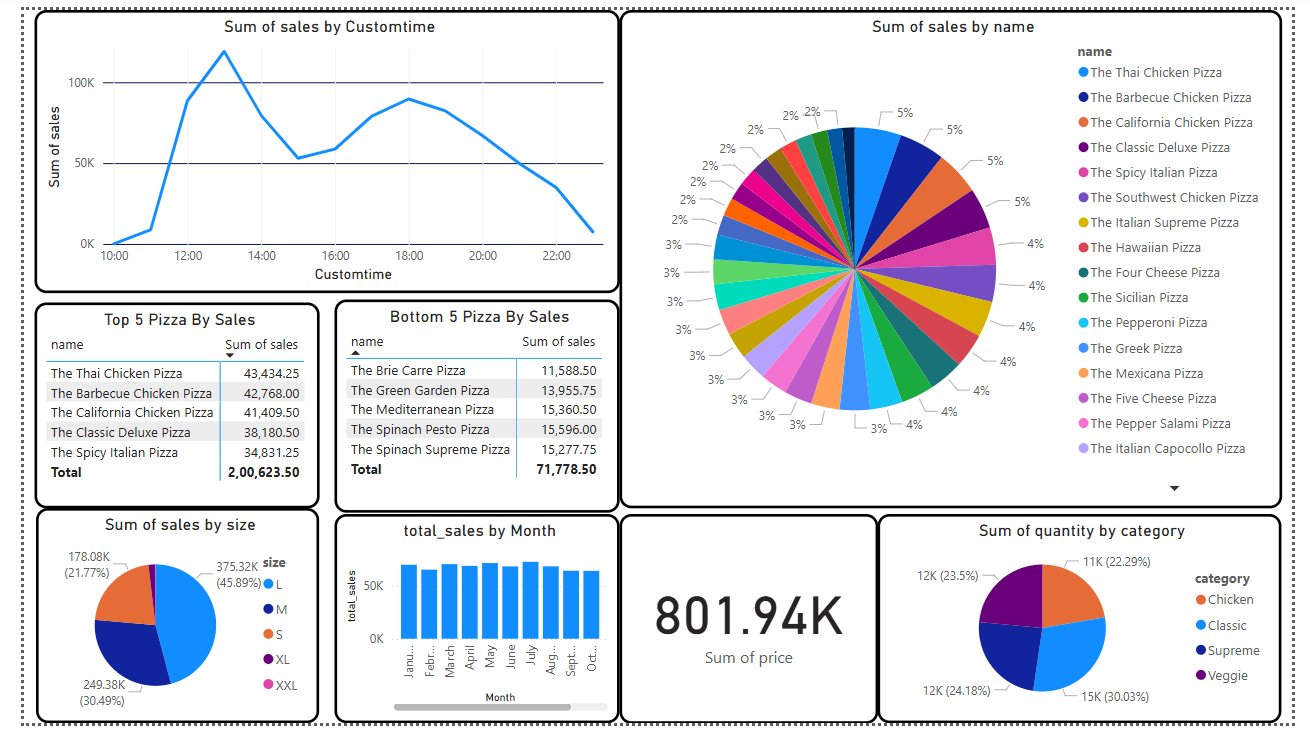

Layout of this report page (visuals, bound fields, positions):
{"tool":"powerbi","page":{"name":"Page 2","canvas":[1280,720],"ordinal":1},"visuals":[{"type":"lineChart","fields":{"Category":["orders.Customtime"],"Y":["Sum(order_details.sales)"]},"box":[10.1,0,591.2,286.3],"z":0},{"type":"pivotTable","title":"Top 5 Pizza By Sales","fields":{"Rows":["pizza_types.name"],"Values":["Sum(order_details.sales)"]},"box":[10.7,296,288,208],"z":1000},{"type":"pivotTable","title":"Bottom 5 Pizza By Sales","fields":{"Rows":["pizza_types.name"],"Values":["Sum(order_details.sales)"]},"box":[313.3,293.1,288,215.6],"z":2000},{"type":"textbox","box":[862.5,31,13.3,32.5],"z":3000},{"type":"pieChart","fields":{"Y":["Sum(order_details.sales)"],"Category":["pizza_types.name"]},"box":[601.1,0,669,503.6],"z":4000},{"type":"pieChart","fields":{"Y":["Sum(order_details.sales)"],"Category":["pizzas.size"]},"box":[11.8,503.6,286.3,217.3],"z":5000},{"type":"columnChart","fields":{"Y":["Table.total_sales"],"Category":["orders.date.Variation.Date Hierarchy.Month"]},"box":[313,509,288,211],"z":6000},{"type":"card","fields":{"Values":["Sum(order_details.price)"]},"box":[601.3,508.6,261.1,212.2],"z":7000},{"type":"pieChart","fields":{"Y":["Sum(order_details.quantity)"],"Series":["pizza_types.category"]},"box":[862,509,408,211],"z":7001}]}

Visuals, with their boxes in screenshot pixels (x1, y1, x2, y2), scaled from the page's 1280x720 canvas onto the 1310x735 screenshot:
lineChart - orders.Customtime x Sum(order_details.sales): pyautogui.locateOnScreen(10, 0, 615, 292)
"Top 5 Pizza By Sales" pivotTable: pyautogui.locateOnScreen(11, 302, 306, 514)
"Bottom 5 Pizza By Sales" pivotTable: pyautogui.locateOnScreen(321, 299, 615, 519)
textbox: pyautogui.locateOnScreen(883, 32, 896, 65)
pieChart - Sum(order_details.sales) x pizza_types.name: pyautogui.locateOnScreen(615, 0, 1300, 514)
pieChart - Sum(order_details.sales) x pizzas.size: pyautogui.locateOnScreen(12, 514, 305, 734)
columnChart - Table.total_sales x orders.date.Variation.Date Hierarchy.Month: pyautogui.locateOnScreen(320, 520, 615, 734)
card - Sum(order_details.price): pyautogui.locateOnScreen(615, 519, 883, 734)
pieChart - Sum(order_details.quantity) x pizza_types.category: pyautogui.locateOnScreen(882, 520, 1300, 734)
